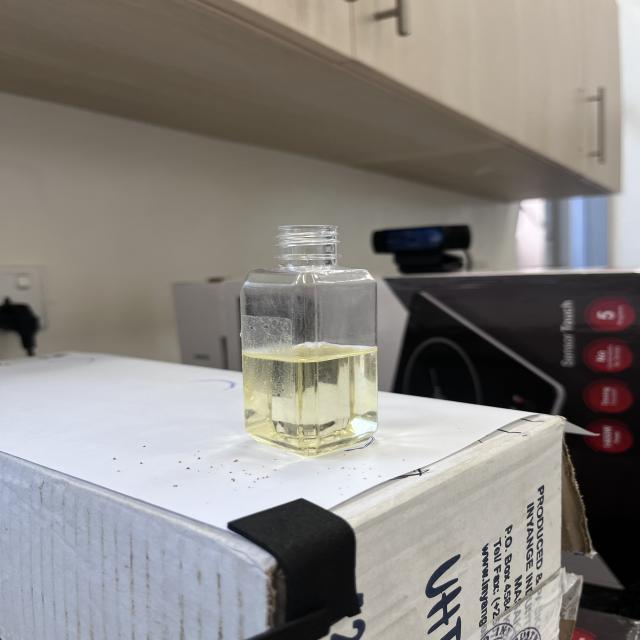oil: (239, 340, 379, 453)
